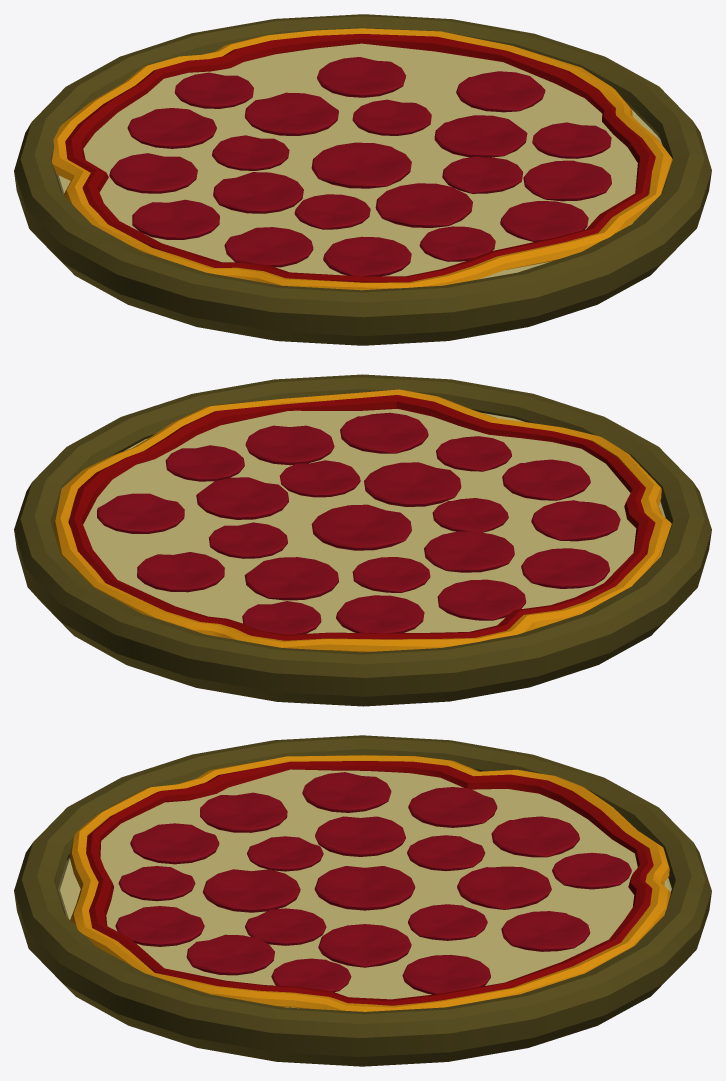
File: Pizza_1.FBX
3 views of the same model, one above another, from view 1: azimuth 30°, elevation 25°; view 2: azimuth 150°, elevation 25°; view 3: azimuth 270°, elevation 25° (orthographic).
Visible parts, largest first — view 1: Pizza_1; view 2: Pizza_1; view 3: Pizza_1.
Boxes of the visible parts, bbox=[...] form: Pizza_1: bbox=[14, 14, 711, 345]; Pizza_1: bbox=[14, 374, 711, 706]; Pizza_1: bbox=[14, 735, 711, 1066].
Size of the model in its own units: 1021 by 1022 by 87.24.
